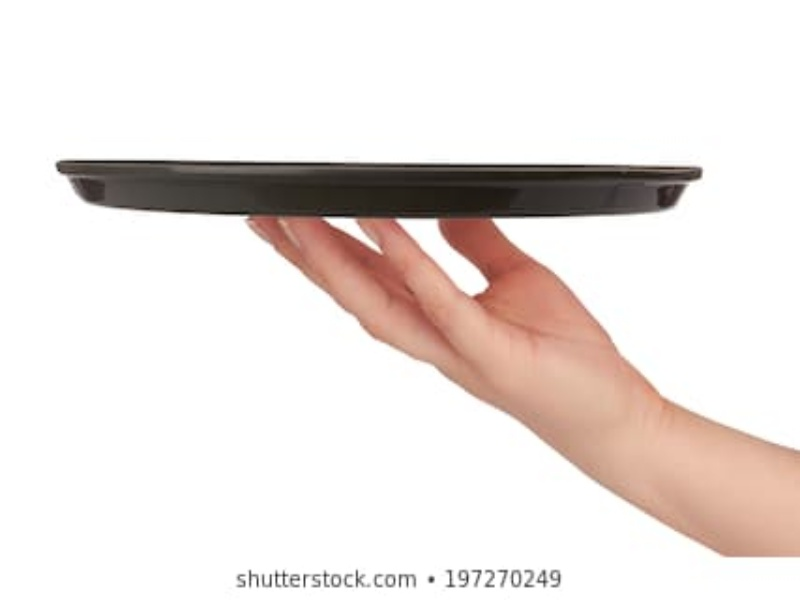plastic-tray: (53, 153, 706, 235)
